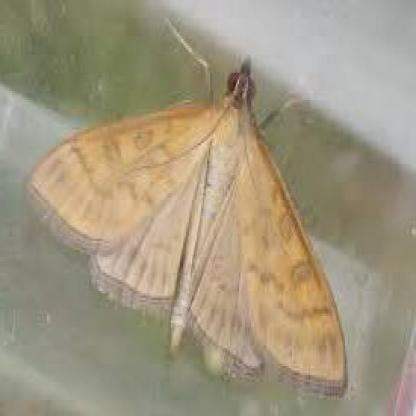Leaf Webber: (30, 51, 347, 399)
